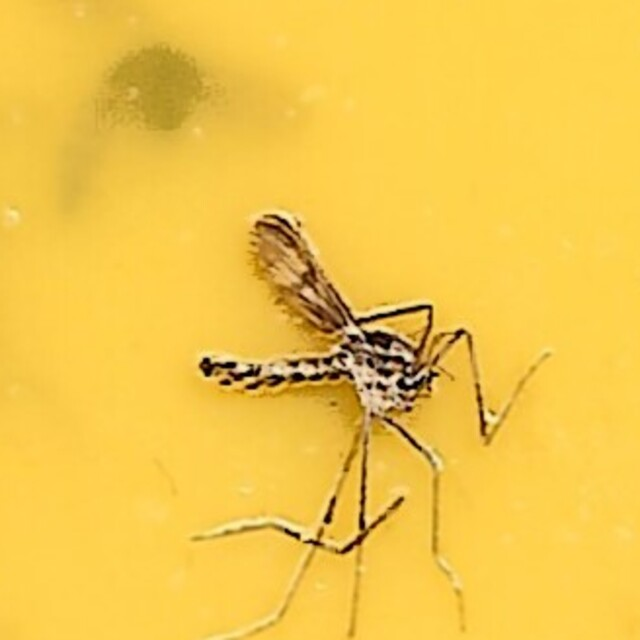Nematocera: (195, 211, 445, 429)
